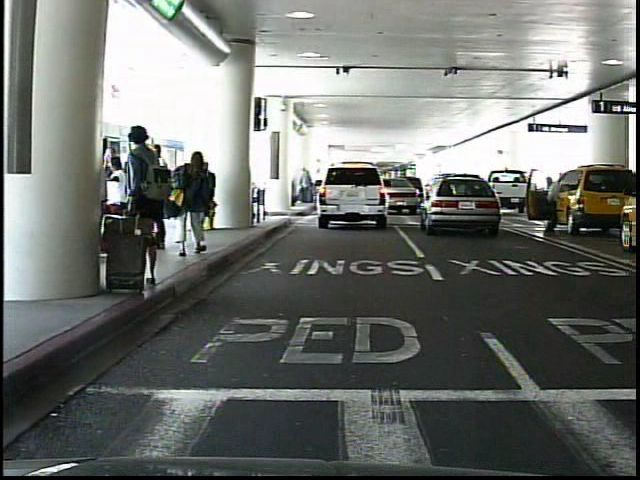person: (113, 122, 165, 288), (176, 146, 215, 260), (145, 143, 174, 243), (177, 158, 204, 234), (539, 176, 573, 235)
